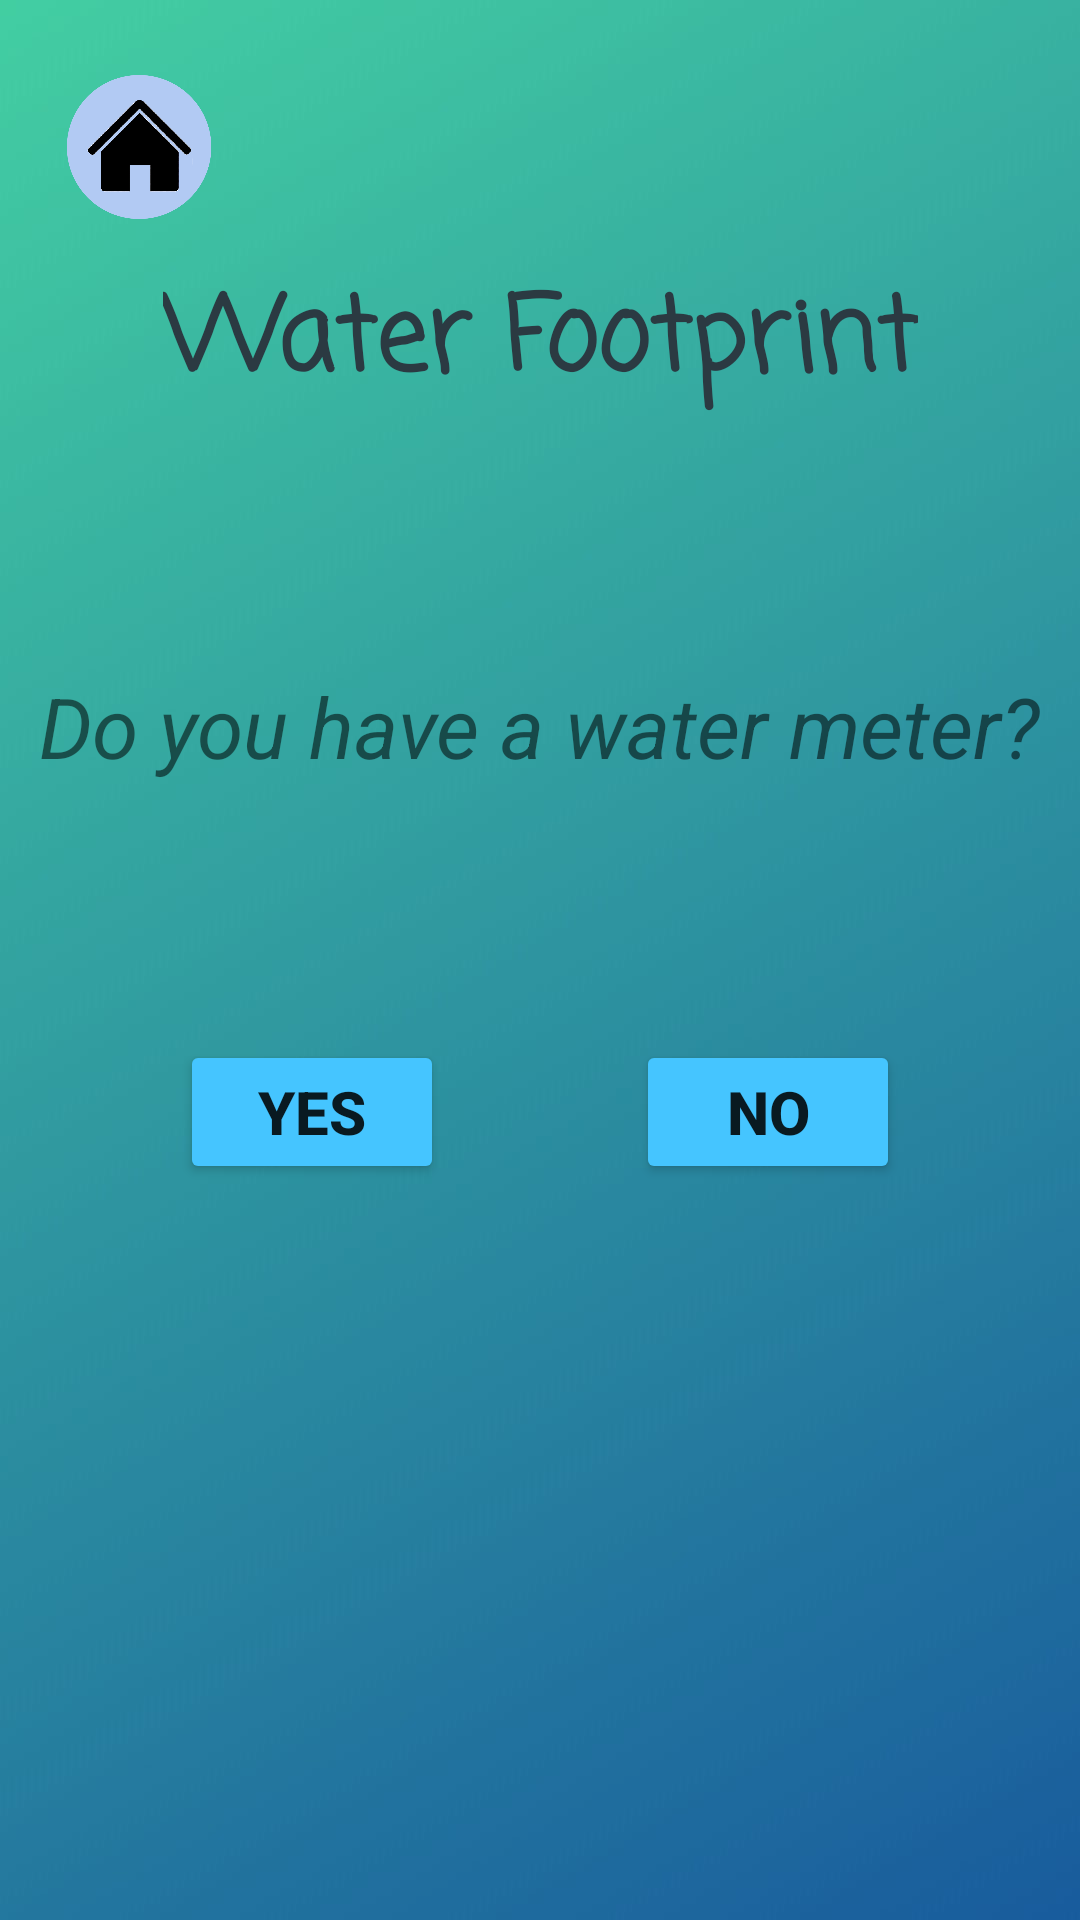

Screen size 1080px×1920px. Icon name, then its box in pixels as (x1, y1, x2, y2):
home: (67, 75, 211, 219)
